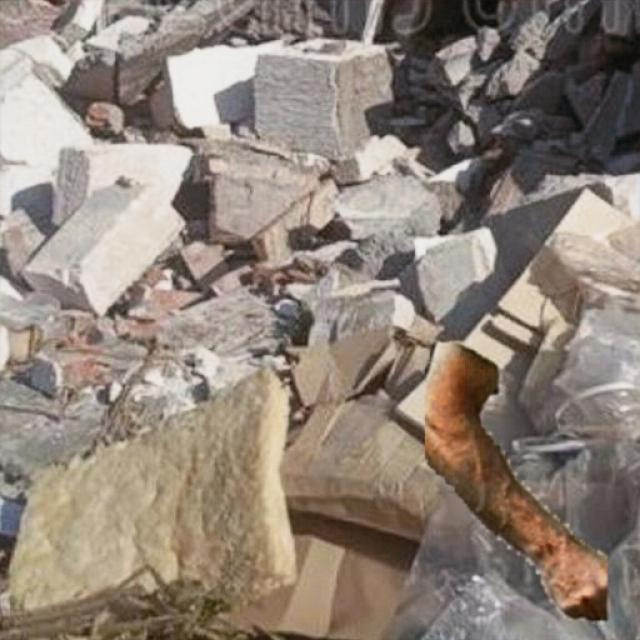Person in Rubble: (425, 342, 606, 622)
